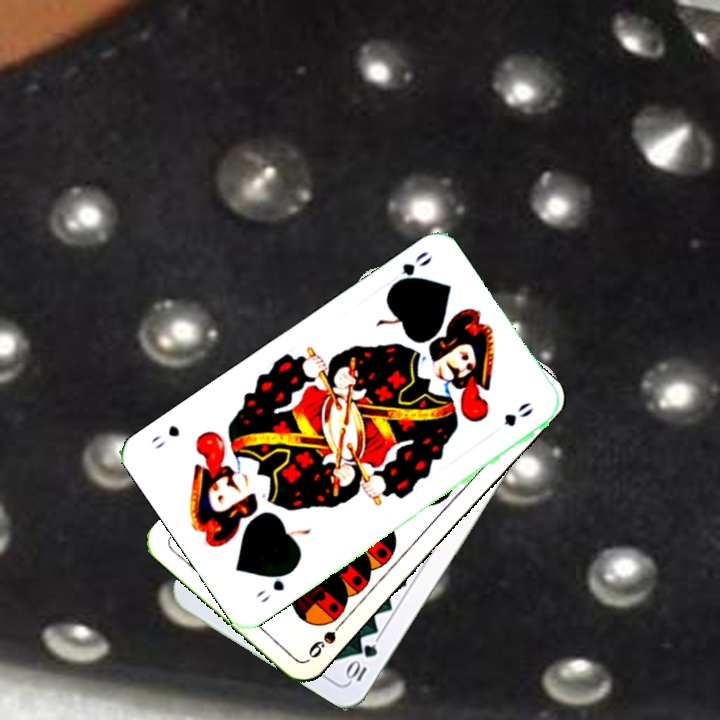G10: (342, 639, 381, 685)
GO: (385, 247, 435, 293), (252, 565, 297, 605)
S9: (304, 614, 349, 661)
